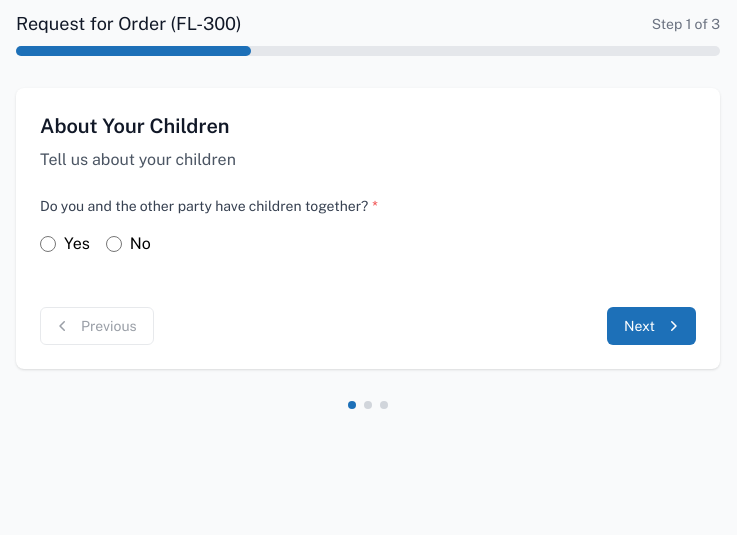
Test: GuidedIntake cross-step conditional questions › answering Yes on step 1 shows the conditional question on step 2
Click the radio button labelled "Yes" at {"x": 48, "y": 244}, box [40,236,56,252]
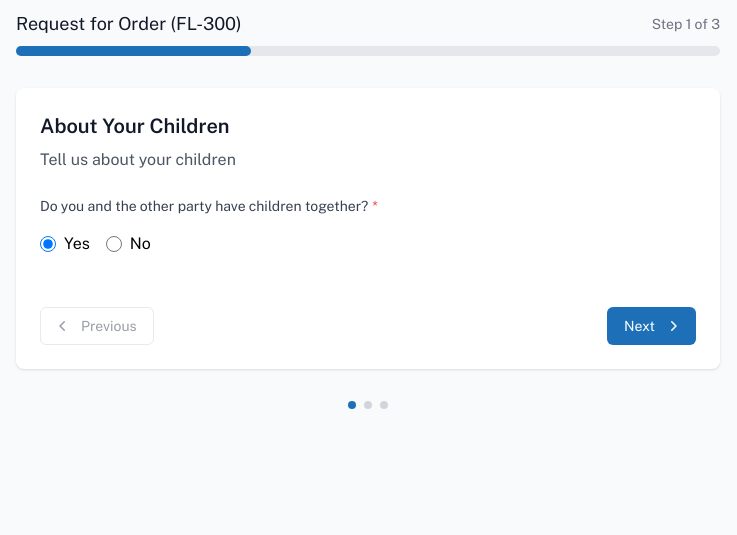
Click the button "Next" at {"x": 652, "y": 326}, box [607,307,696,345]
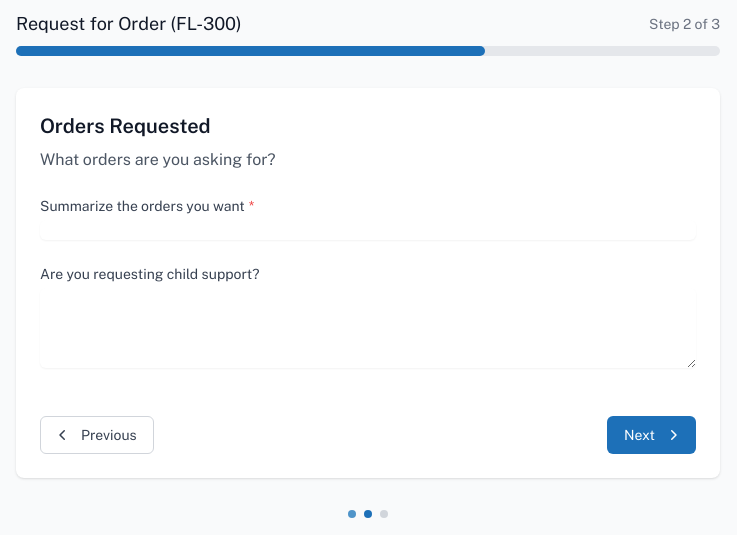
Result: the heading "Orders Requested" is shown at [40,114,211,138]
Result: the text box labelled "Are you requesting child support?" is shown at [40,288,696,368]
